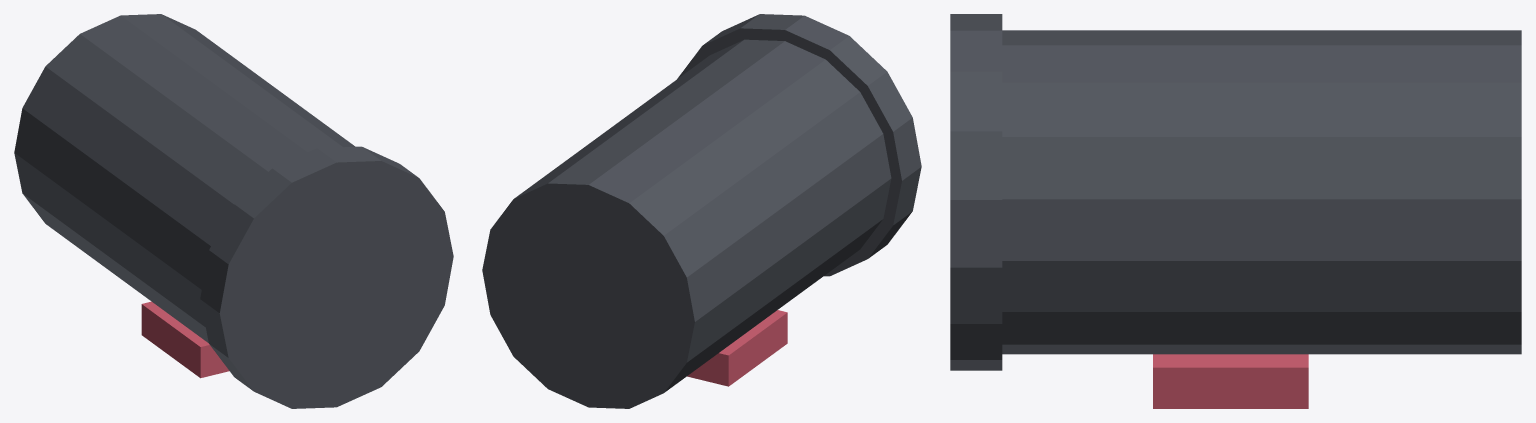
File: recycling_bin_v03.glb
The picture shows the model from 3 angles, left to right: view 1: azimuth 30°, elevation 25°; view 2: azimuth 150°, elevation 25°; view 3: azimuth 270°, elevation 25°; orthographic projection. The views are drawn at different scales.
Parts seen in each view (by area): view 1: cylinder_0, cylinder_1, box_2; view 2: cylinder_0, cylinder_1, box_2; view 3: cylinder_0, cylinder_1, box_2.
Part boxes in pixels (box(x1,y1,x2,y2)): cylinder_0: box(14, 14, 354, 343); cylinder_1: box(200, 146, 453, 408); box_2: box(141, 301, 229, 378); cylinder_0: box(482, 39, 891, 408); cylinder_1: box(677, 14, 921, 276); box_2: box(687, 310, 787, 386); cylinder_0: box(1002, 30, 1521, 354); cylinder_1: box(950, 14, 1002, 370); box_2: box(1153, 354, 1308, 408).
Size of the model in its own units: 0.55 by 0.578 by 0.88.
